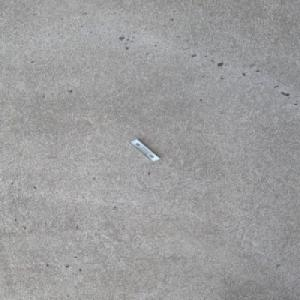ClampPart: (127, 138, 160, 162)
